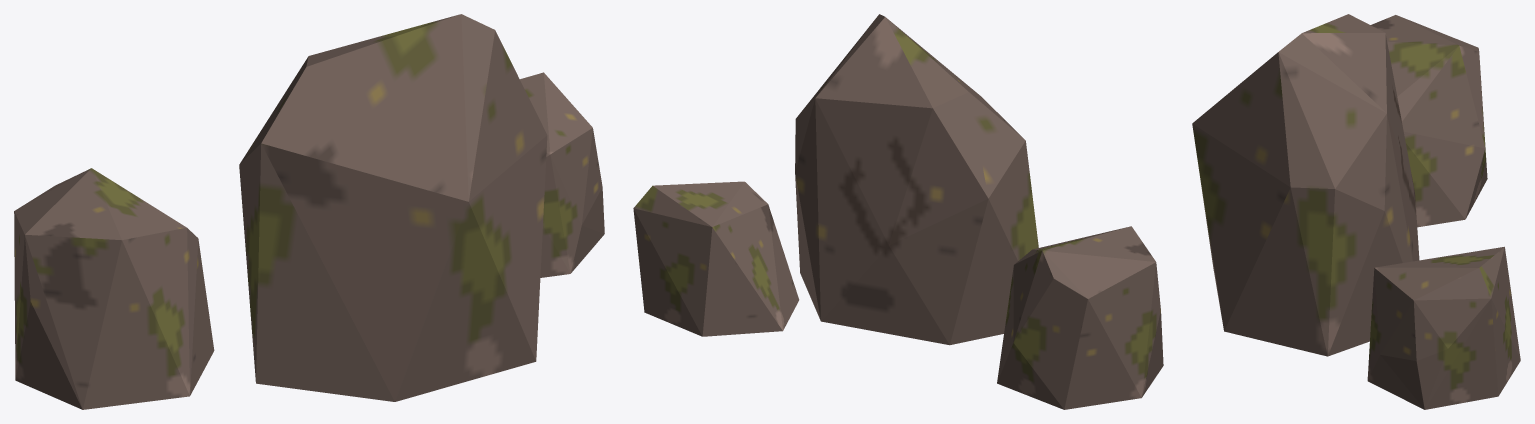
The model's file is SM_MK06_StoneMarkGroup.fbx.
3 views of the same model, side by side, from view 1: azimuth 30°, elevation 25°; view 2: azimuth 150°, elevation 25°; view 3: azimuth 270°, elevation 25° (orthographic). The views are drawn at different scales.
Visible parts, largest first — view 1: MK06_Stones; view 2: MK06_Stones; view 3: MK06_Stones.
Boxes of the visible parts, x1,y1,x2,y2 form: MK06_Stones: [14, 14, 604, 409]; MK06_Stones: [633, 14, 1163, 409]; MK06_Stones: [1192, 14, 1520, 409].
Size of the model in its own units: 1.44 by 0.7438 by 0.7772.
